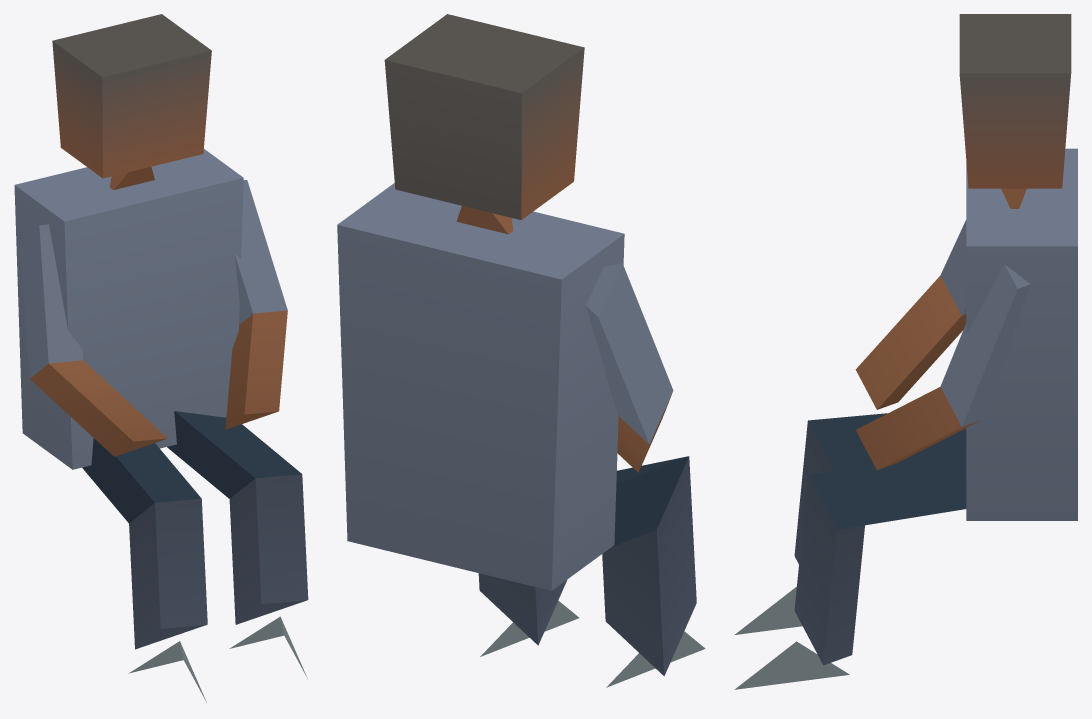
Rendered from fan-12.glb.
The picture shows the model from 3 angles, left to right: view 1: azimuth 30°, elevation 25°; view 2: azimuth 150°, elevation 25°; view 3: azimuth 270°, elevation 25°; orthographic projection. The views are drawn at different scales.
Parts seen in each view (by area): view 1: fan-12; view 2: fan-12; view 3: fan-12.
Part boxes in pixels (x1,y1,x2,y2): fan-12: (14,14,308,702); fan-12: (337,14,705,687); fan-12: (734,14,1077,689).
Size of the model in its own units: 0.7175 by 1.53 by 0.77.
